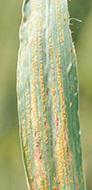Wheat: (26, 5, 67, 190)
